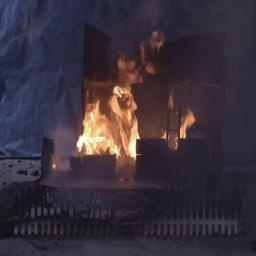fire: (72, 28, 161, 171)
